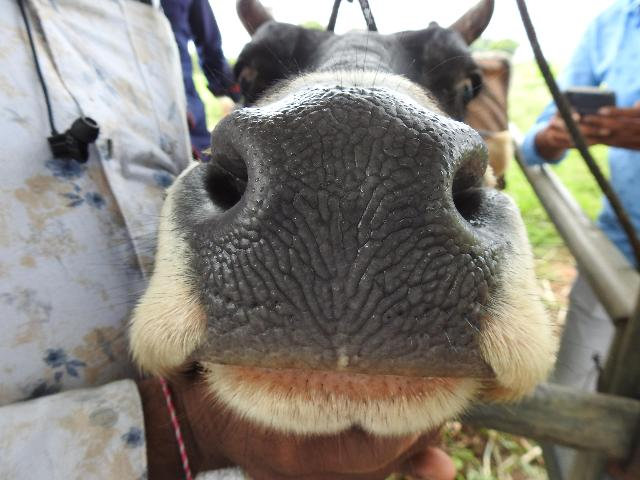Muzzle: (249, 110, 443, 354)
